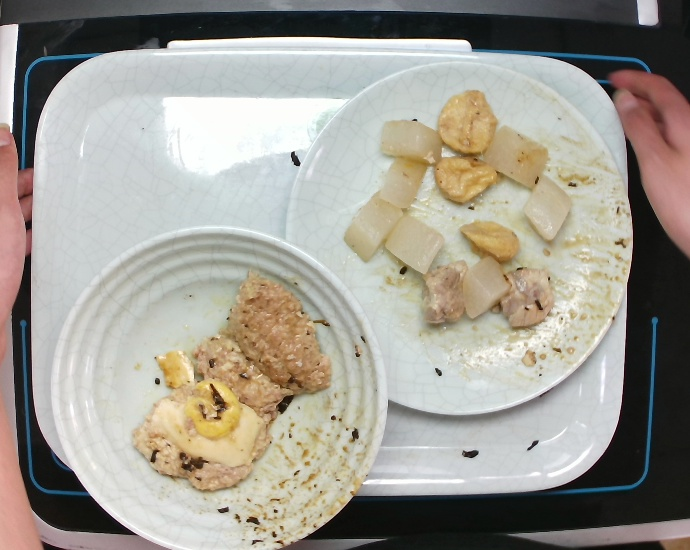JYsf-Da_Tang_Wan: (43, 220, 391, 546)
JYsf-Da_Yuan_Pan: (281, 57, 639, 418)
